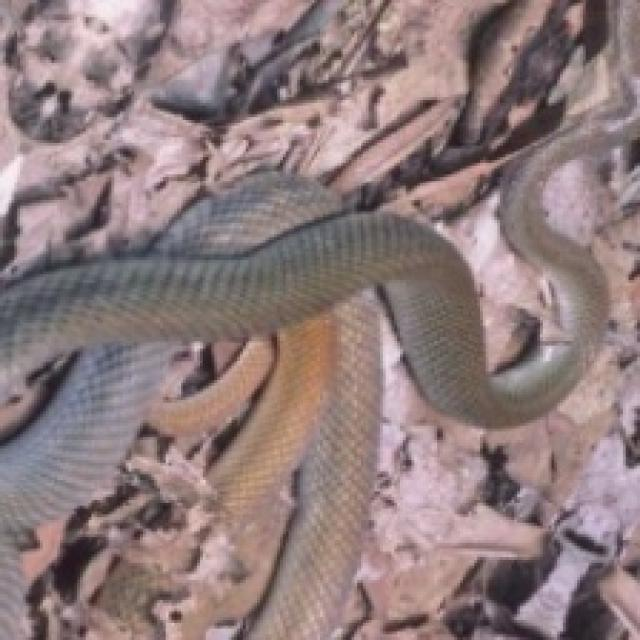reddish rat snake: (0, 82, 640, 639), (9, 344, 168, 509), (152, 368, 269, 434)
